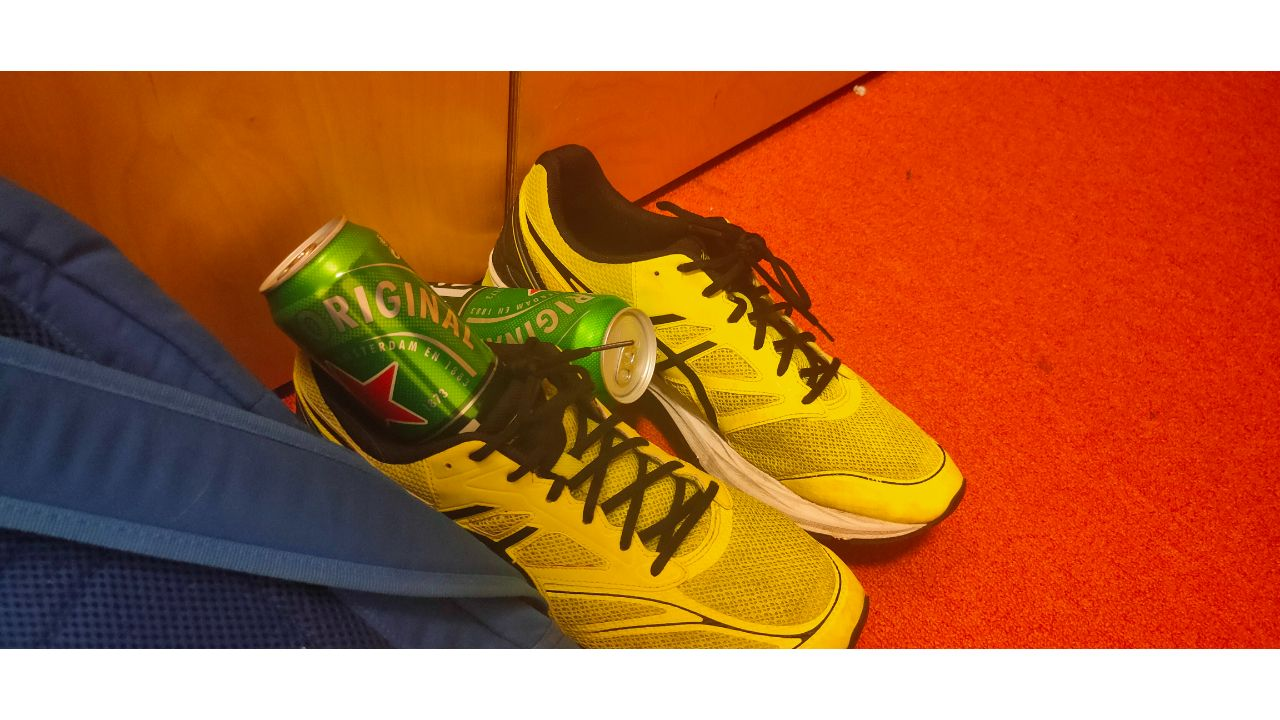Can: (260, 215, 498, 445), (408, 273, 657, 407)
